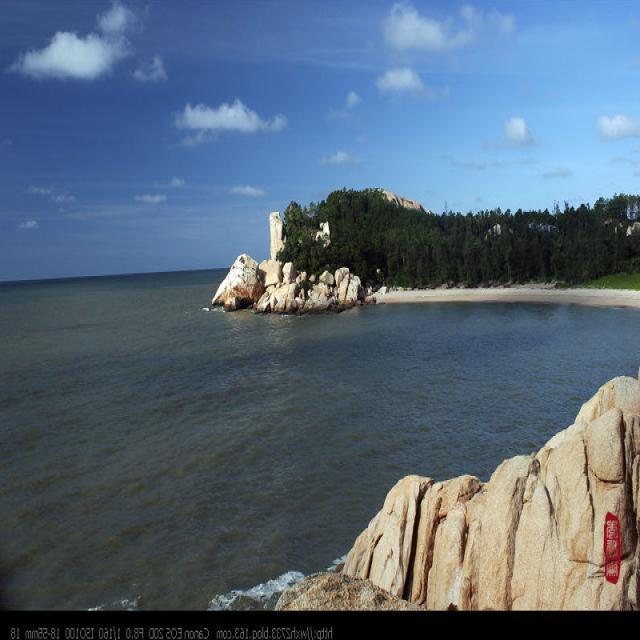reef: (280, 386, 620, 623), (200, 238, 360, 321)
